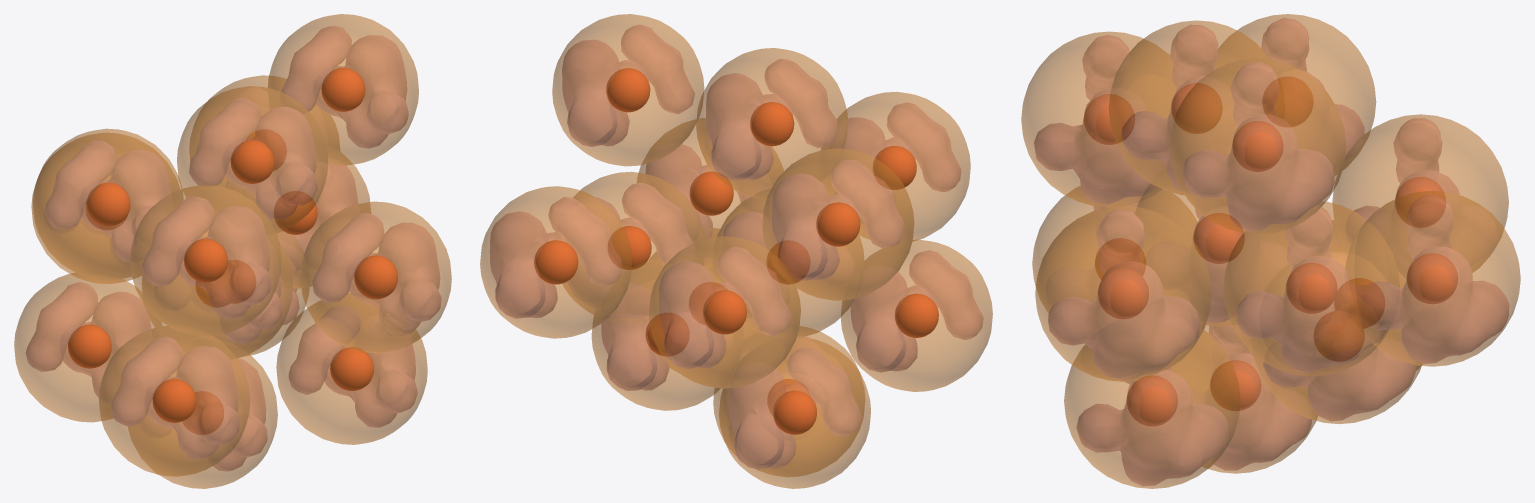
File: OvasMeros.fbx
The picture shows the model from 3 angles, left to right: view 1: azimuth 30°, elevation 25°; view 2: azimuth 150°, elevation 25°; view 3: azimuth 270°, elevation 25°; orthographic projection. The views are drawn at different scales.
Visible parts, largest first — view 1: Mball, Roundcube.007, Roundcube.021, Roundcube.003, Roundcube.017, Roundcube.027, Roundcube.025, Roundcube.023, Roundcube.013, Roundcube, Roundcube.015, Roundcube.005 (+16 smaller); view 2: Mball, Roundcube.011, Roundcube.027, Roundcube.015, Roundcube.023, Roundcube.013, Roundcube.003, Roundcube.025, Roundcube.007, Roundcube.019, Roundcube.009, Roundcube.021 (+15 smaller); view 3: Mball, Roundcube.027, Roundcube.021, Roundcube.011, Roundcube.019, Roundcube.017, Roundcube.007, Roundcube.025, Roundcube.015, Roundcube.023, Roundcube.009, Roundcube (+16 smaller).
Part boxes in pixels (<box>): Mball: <box>26,26,441,471</box>; Roundcube.007: <box>130,185,281,336</box>; Roundcube.021: <box>300,201,451,352</box>; Roundcube.003: <box>99,325,250,476</box>; Roundcube.017: <box>276,293,427,444</box>; Roundcube.027: <box>267,14,418,165</box>; Roundcube.025: <box>177,86,328,235</box>; Roundcube.023: <box>33,128,183,280</box>; Roundcube.013: <box>14,273,161,422</box>; Roundcube: <box>128,340,277,488</box>; Roundcube.015: <box>31,133,179,283</box>; Roundcube.005: <box>142,235,292,359</box>; Mball: <box>490,24,983,468</box>; Roundcube.011: <box>480,186,632,338</box>; Roundcube.027: <box>552,14,704,166</box>; Roundcube.015: <box>649,236,800,388</box>; Roundcube.023: <box>762,148,914,300</box>; Roundcube.013: <box>719,336,870,488</box>; Roundcube.003: <box>840,239,992,391</box>; Roundcube.025: <box>696,48,847,199</box>; Roundcube.007: <box>821,91,970,243</box>; Roundcube.019: <box>556,172,705,323</box>; Roundcube.009: <box>591,258,743,410</box>; Roundcube.021: <box>637,118,783,238</box>; Mball: <box>1034,18,1508,485</box>; Roundcube.027: <box>1169,58,1346,234</box>; Roundcube.021: <box>1035,206,1211,381</box>; Roundcube.011: <box>1344,190,1520,366</box>; Roundcube.019: <box>1223,201,1399,376</box>; Roundcube.017: <box>1064,328,1240,488</box>; Roundcube.007: <box>1021,31,1176,207</box>; Roundcube.025: <box>1108,20,1284,195</box>; Roundcube.015: <box>1332,114,1508,272</box>; Roundcube.023: <box>1215,14,1376,175</box>; Roundcube.009: <box>1251,248,1421,423</box>; Roundcube: <box>1171,319,1317,473</box>.
Bounding box in the file's own units: 523 × 580 × 542.
